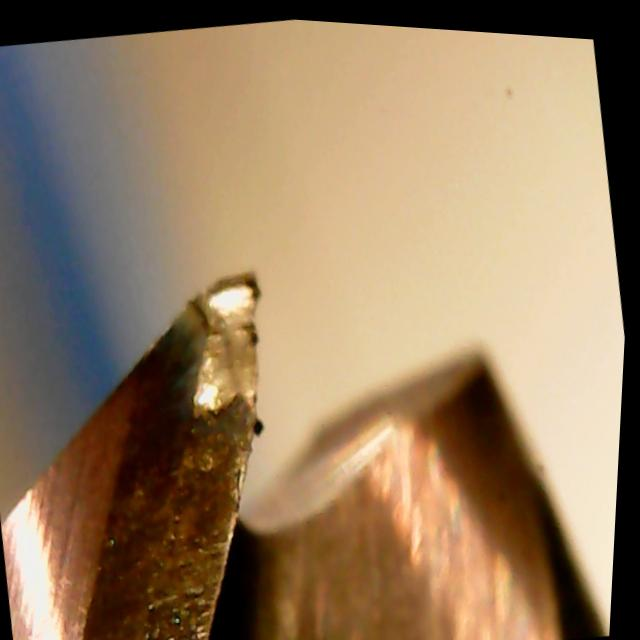Tool-wear-class-2: (88, 245, 341, 635)
